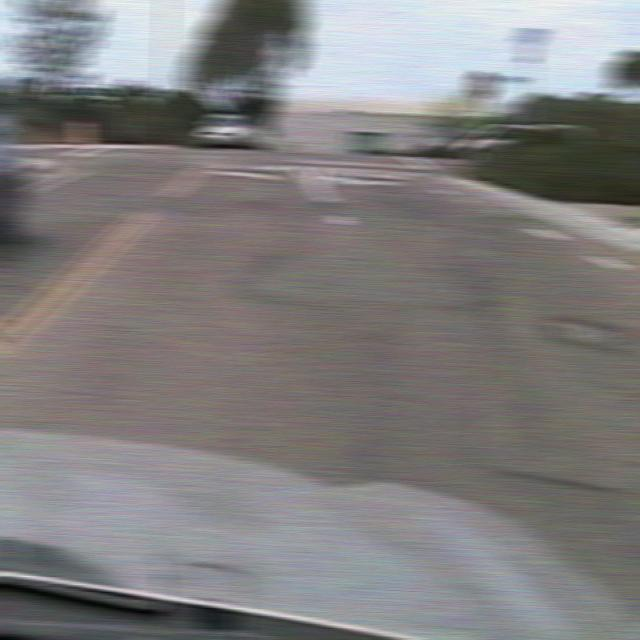stop_sign: (468, 69, 498, 100)
